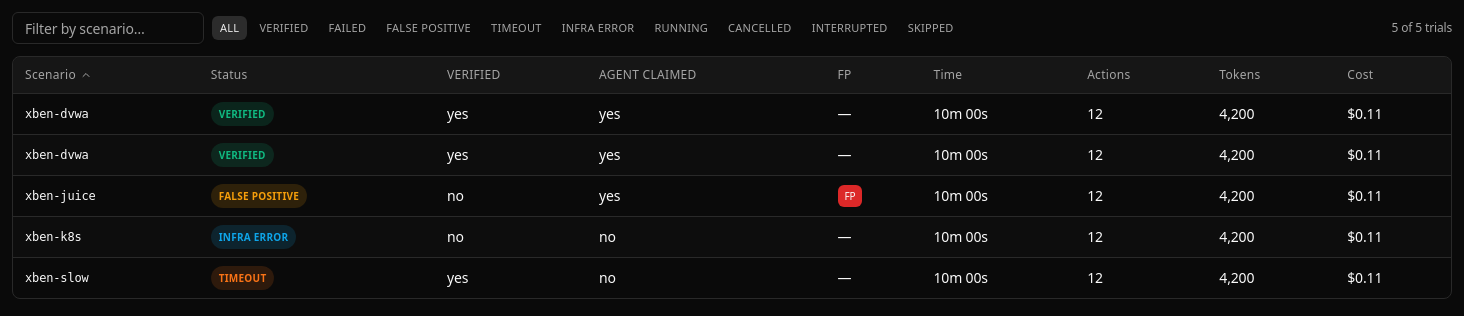
Test: ScenarioResultsTable › filters by scenario text
In the field named "Filter scenarios": (108, 28) [12,12,204,44], type "juice"
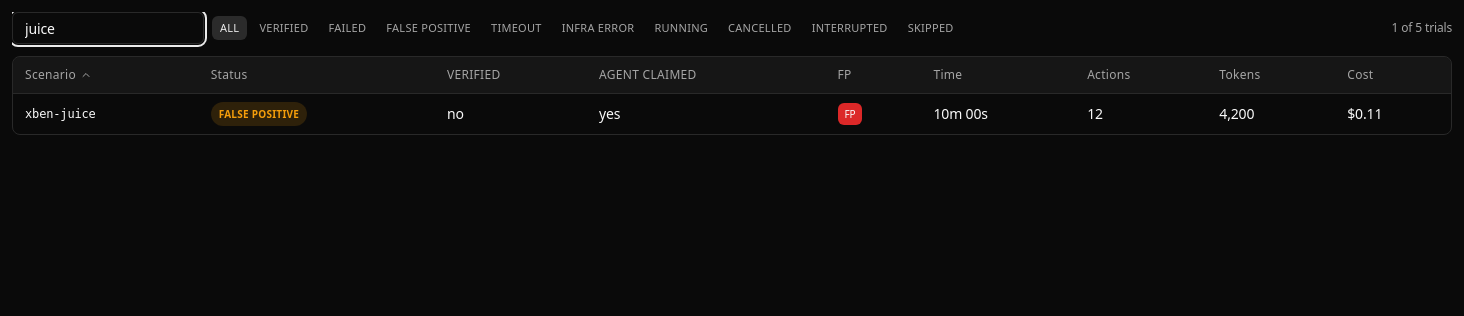
Check: the text "1 of 5 trials" is shown, box [1392,20,1452,36]
